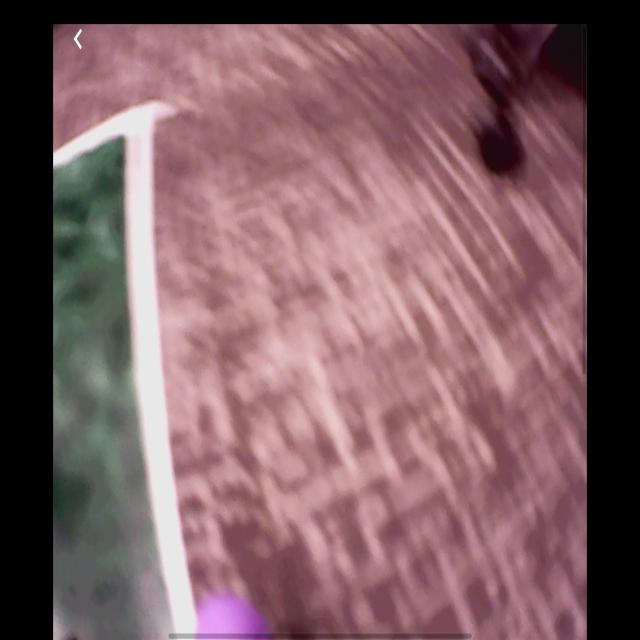ball: (194, 590, 274, 639)
